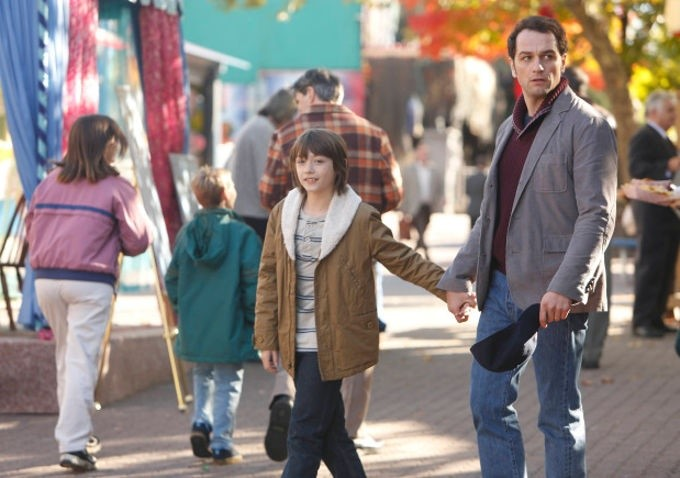face_no_mask: (506, 16, 567, 91), (291, 127, 349, 194)
